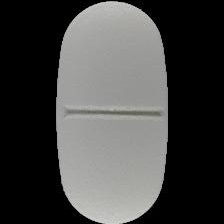61919-103: (0, 0, 224, 224)
